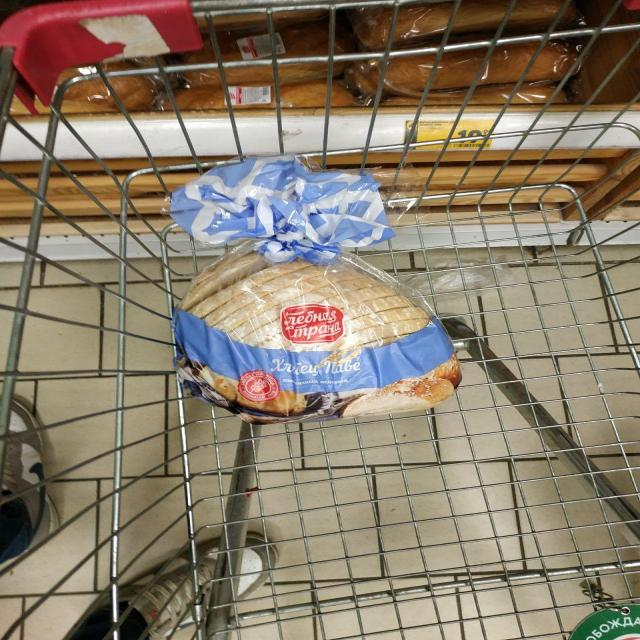Bread: (170, 155, 460, 423)
